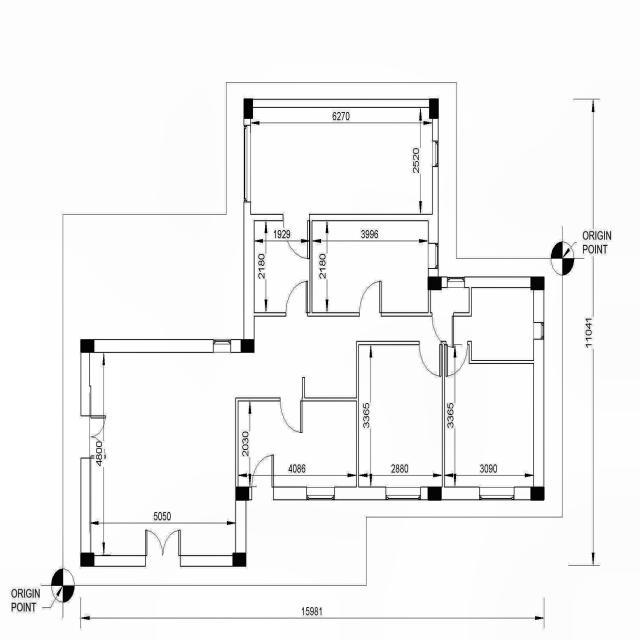Column: (530, 486, 544, 501), (428, 486, 442, 501), (236, 486, 250, 501), (429, 98, 439, 119), (244, 98, 254, 119), (530, 276, 544, 290), (232, 552, 246, 566), (80, 552, 94, 566), (428, 276, 442, 290), (80, 340, 94, 352), (240, 340, 254, 352)
Door: (282, 214, 310, 259), (251, 454, 274, 500), (418, 341, 442, 377), (359, 281, 382, 317), (280, 397, 302, 434), (286, 280, 308, 316), (432, 312, 454, 348), (446, 341, 468, 376)
Double-Door: (145, 530, 181, 566), (80, 416, 106, 458)
Window: (244, 125, 252, 202), (478, 487, 514, 500), (386, 487, 420, 500), (306, 487, 335, 500), (428, 243, 438, 269), (447, 276, 465, 288), (213, 340, 231, 352), (534, 322, 544, 340), (432, 140, 438, 168)
